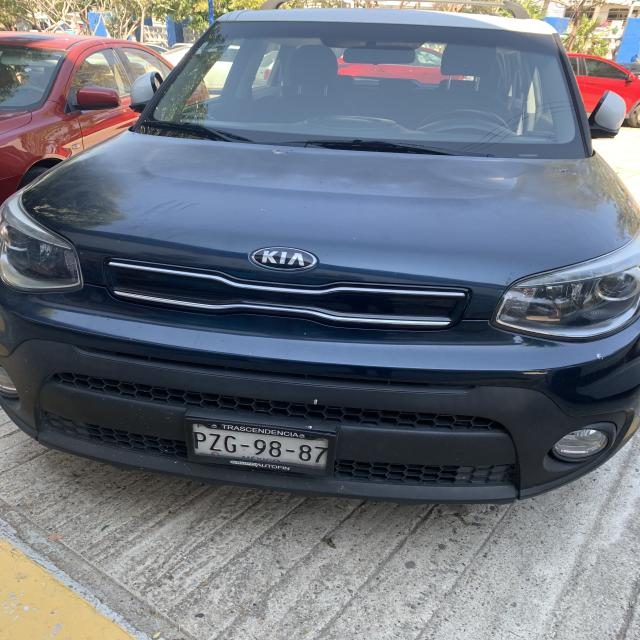placa: (190, 422, 338, 469)
